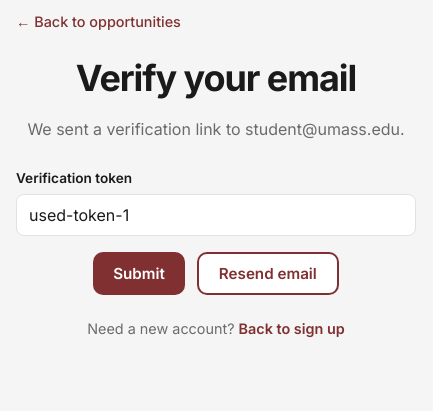
VerifyEmailPage › treats an already-used token as verified for the current user
Click the button "Submit": (139, 274) x1=93 y1=252 x2=185 y2=295
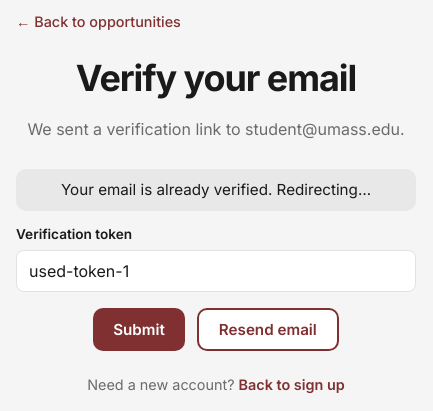
Expected: the text "Your email is already verified. Redirecting…" is shown, x1=16 y1=169 x2=416 y2=211
